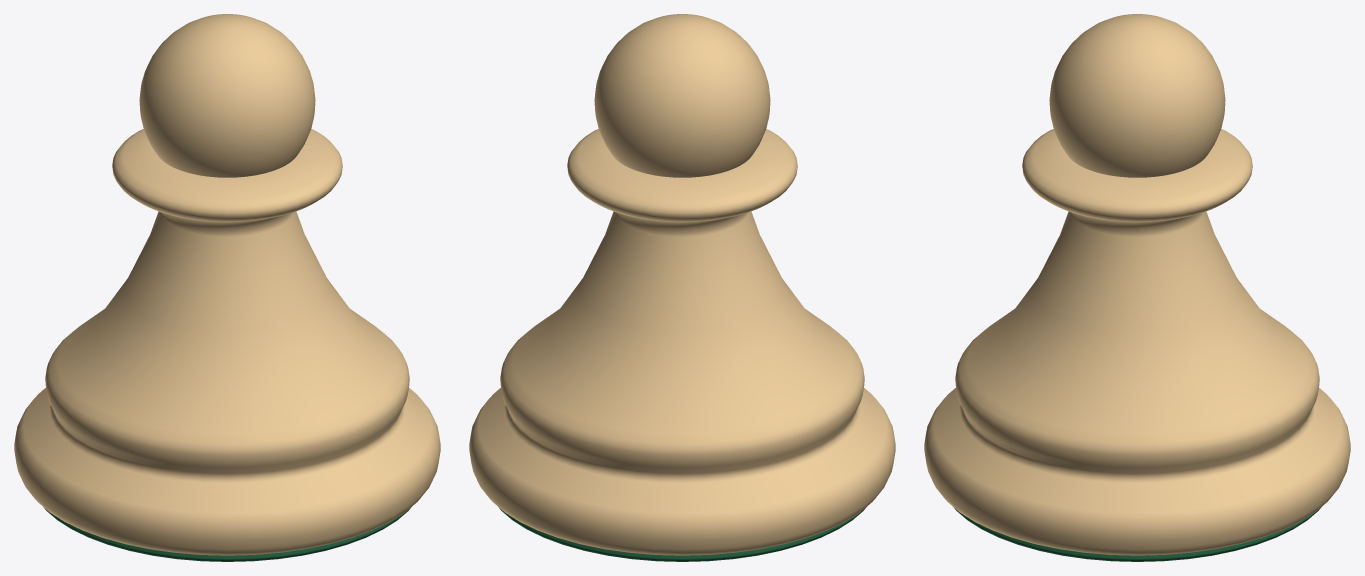
The model's file is pawn.glb.
3 views of the same model, side by side, from view 1: azimuth 30°, elevation 25°; view 2: azimuth 150°, elevation 25°; view 3: azimuth 270°, elevation 25° (orthographic).
Visible parts, largest first — view 1: Pawn, Felt; view 2: Pawn, Felt; view 3: Pawn, Felt.
Part boxes in pixels (x1=…): Pawn: x1=14, y1=14, x2=440, y2=555; Felt: x1=43, y1=507, x2=411, y2=561; Pawn: x1=469, y1=14, x2=895, y2=555; Felt: x1=498, y1=507, x2=866, y2=561; Pawn: x1=924, y1=14, x2=1350, y2=555; Felt: x1=953, y1=507, x2=1321, y2=561.
Bounding box in the file's own units: 0.062 × 0.0733 × 0.062.
